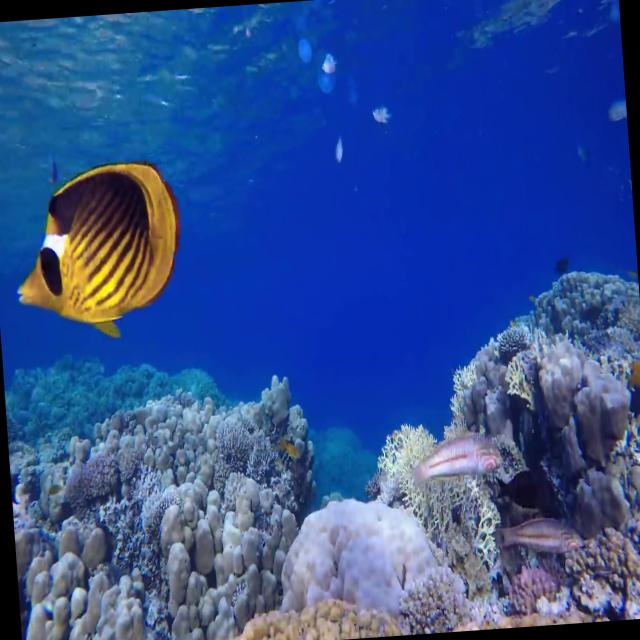fish: (9, 148, 190, 340)
